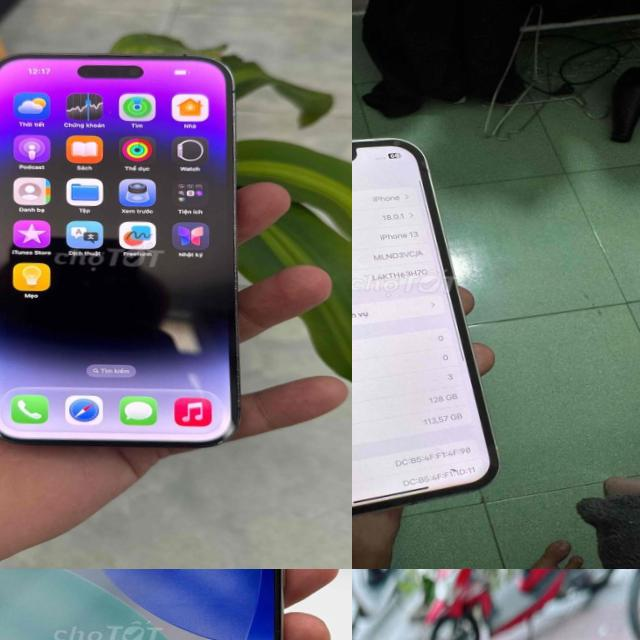gen_12_13: (352, 122, 512, 535)
gen_14: (0, 41, 262, 458)
gen_17: (0, 569, 310, 640)
